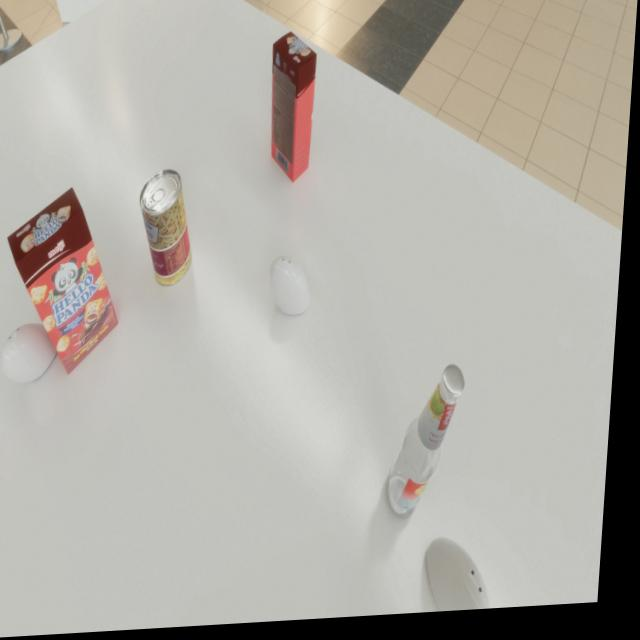Bottle: (390, 370, 472, 528)
HelloPanda: (3, 185, 130, 379), (267, 34, 319, 188)
Potato_sticks: (138, 170, 200, 290)
Salt: (432, 540, 505, 618), (3, 322, 67, 384), (272, 258, 317, 320)
